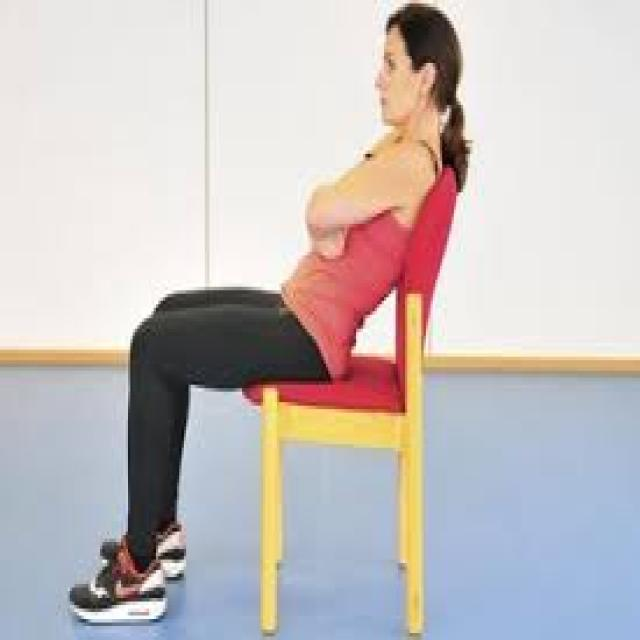nonfall: (54, 6, 498, 622)
